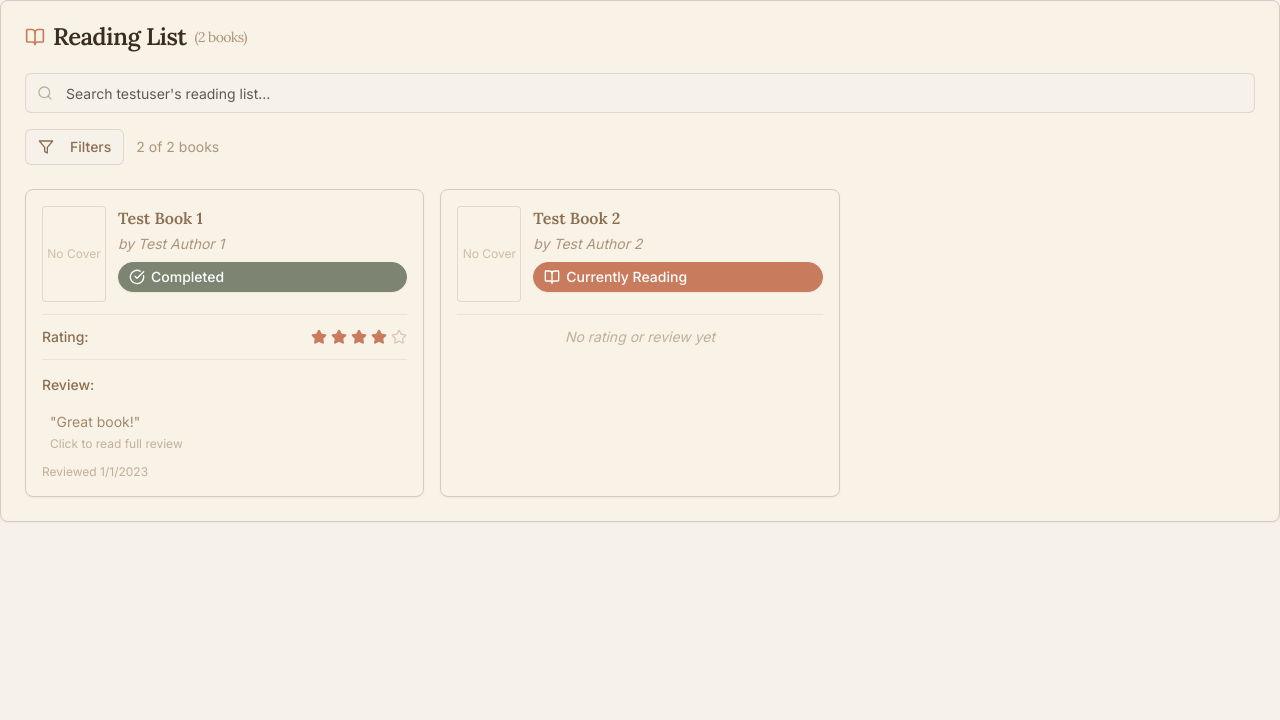
ProfileReadingListSection › Search Integration › filters books by reading status
The image size is (1280, 720).
Expected: the text "(2 books)" is shown, [194,27,247,47]
Open filters
Step 1. Click the button "Filters" → (75, 147), box [25,129,124,165]
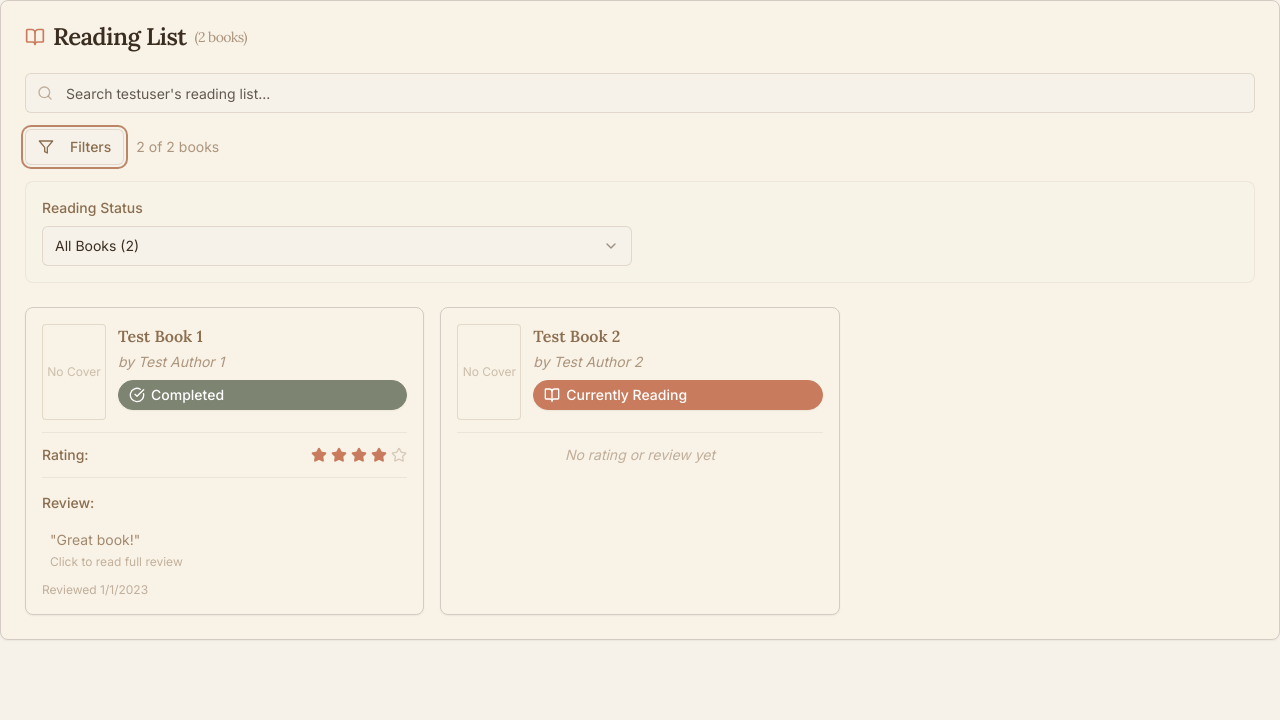
Select "Completed" status
Step 2. Click the dropdown → (90, 246), box [42,226,632,266]
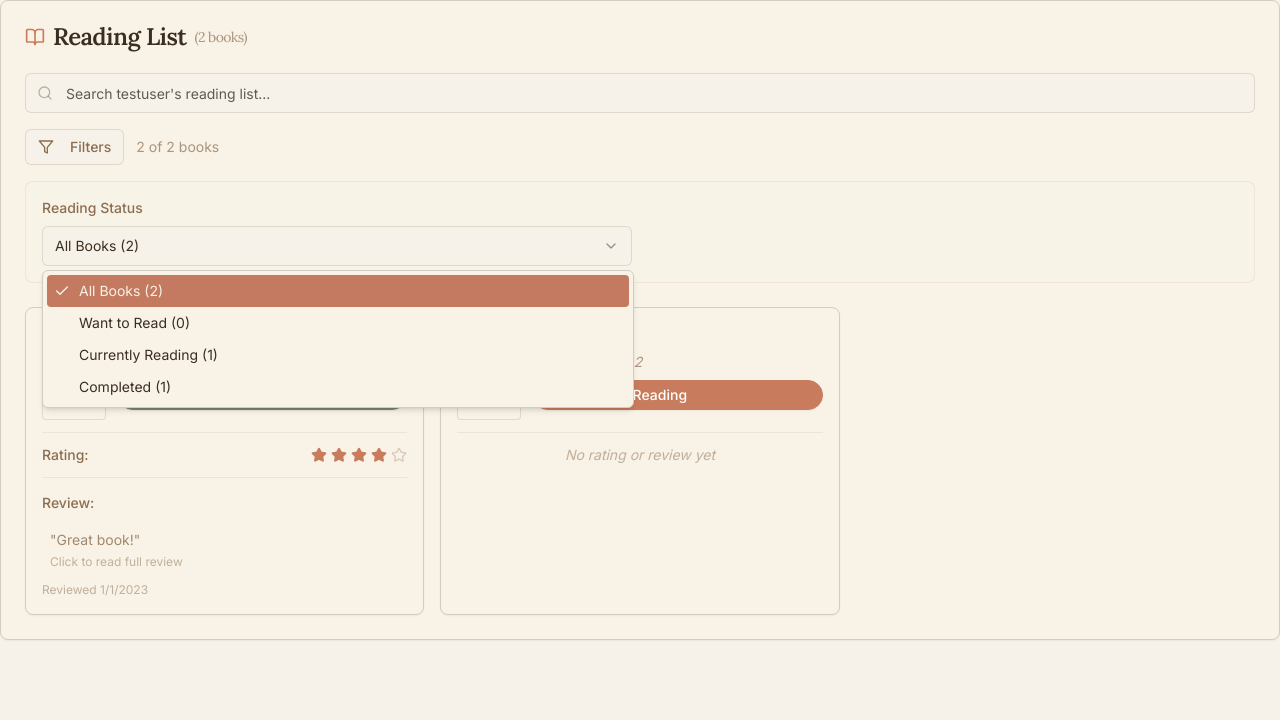
Step 3. Click the option "Completed (1)" → (125, 386), box [79,378,171,395]
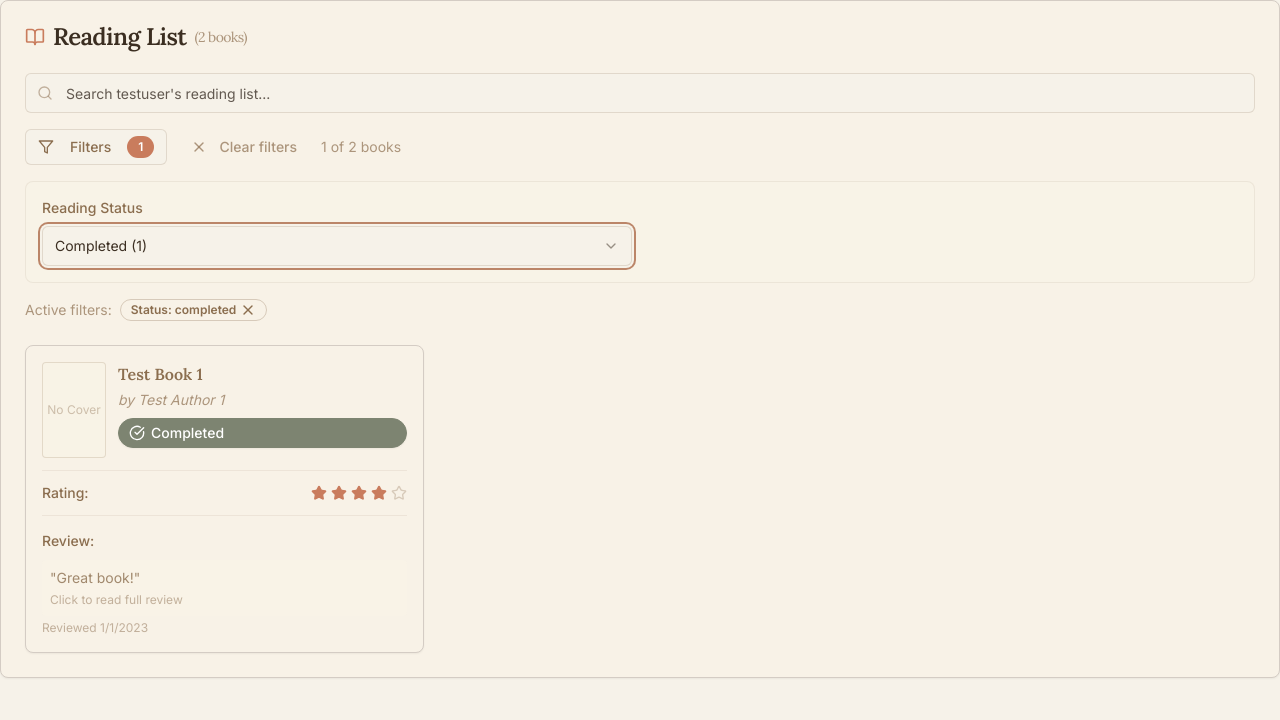
Expected: the heading "Test Book 1" is shown, [118,364,203,384]
Result: the text "1 of 2 books" is shown at [321,137,401,157]
Result: the heading "Test Book 2" is gone
